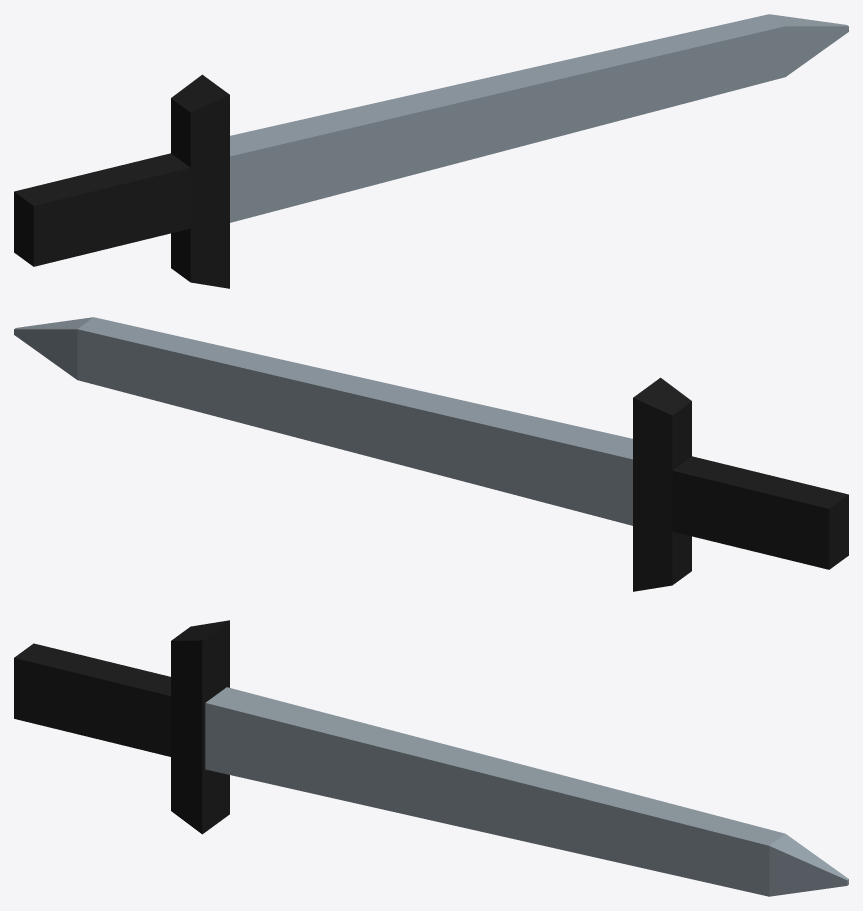
The model's file is facon.fbx.
3 renders of one model, top to bottom at view 1: azimuth 30°, elevation 25°; view 2: azimuth 150°, elevation 25°; view 3: azimuth 330°, elevation 25°, orthographic.
Visible parts, largest first — view 1: Cube.001; view 2: Cube.001; view 3: Cube.001.
Boxes of the visible parts, bbox=[...] form: Cube.001: bbox=[14, 14, 848, 288]; Cube.001: bbox=[14, 317, 848, 591]; Cube.001: bbox=[14, 620, 848, 896].
Bounding box in the file's own units: 53.47 × 12.03 × 3.1.
